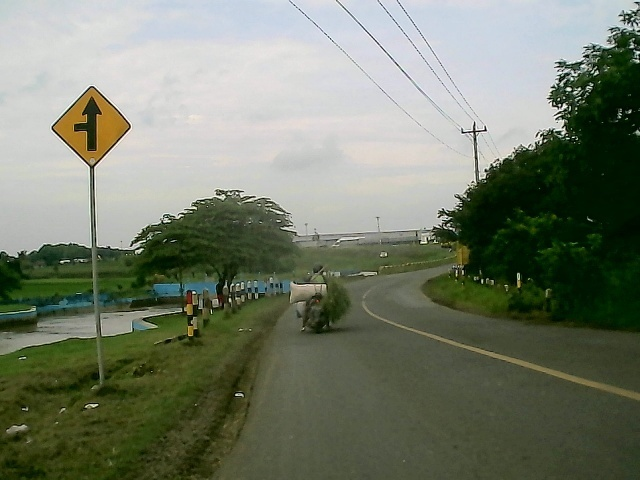Simpang kiri dengan prioritas: (51, 84, 133, 167)
